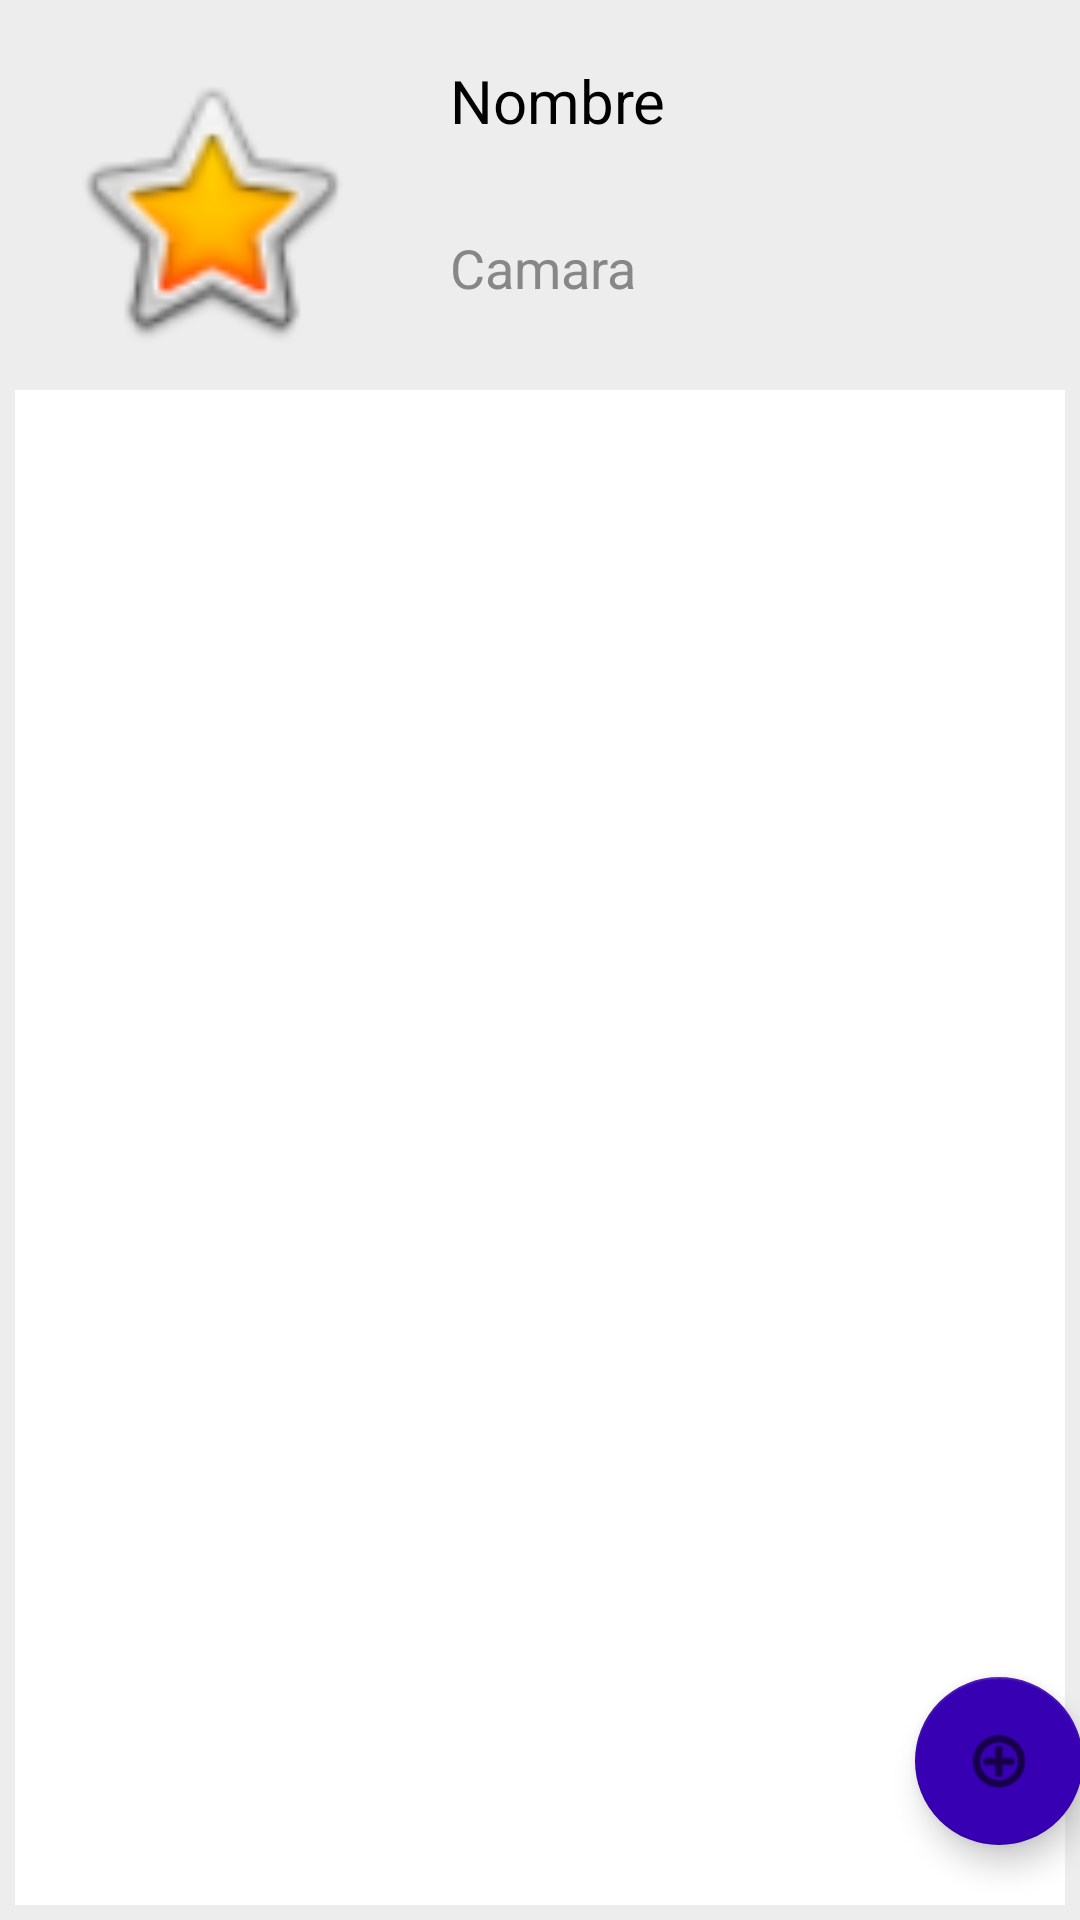

Icon click points for this 1080×1920 phone screenshot, format point (x, y):
add: point (997, 1761)
star on: point (212, 212)
